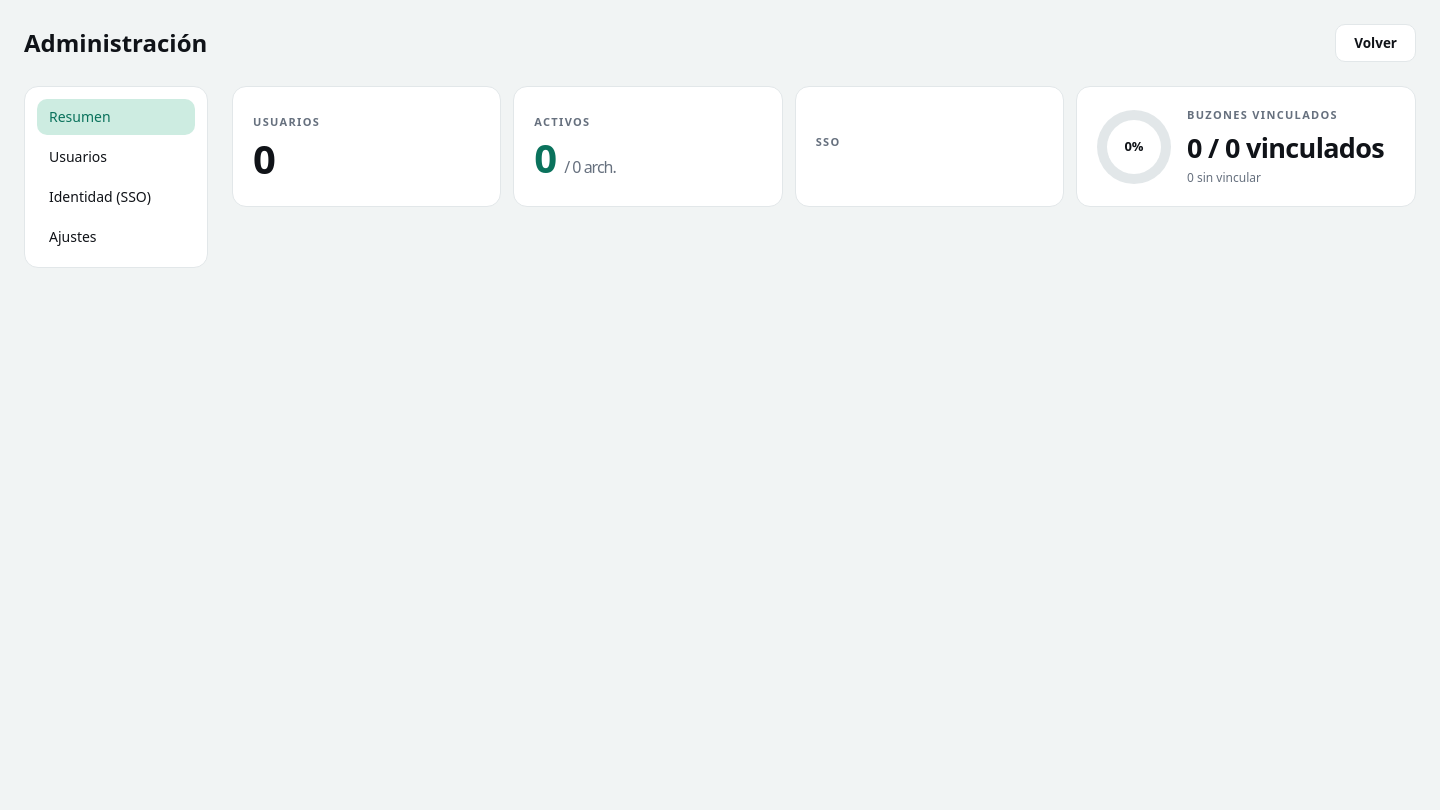
Test: AdminPage SSO config panel › submits the form and PUTs the entered values including clientSecret and providerName, showing saved on success
Click the button "Identidad (SSO)" at (116, 197), box left=37, top=179, right=195, bottom=215
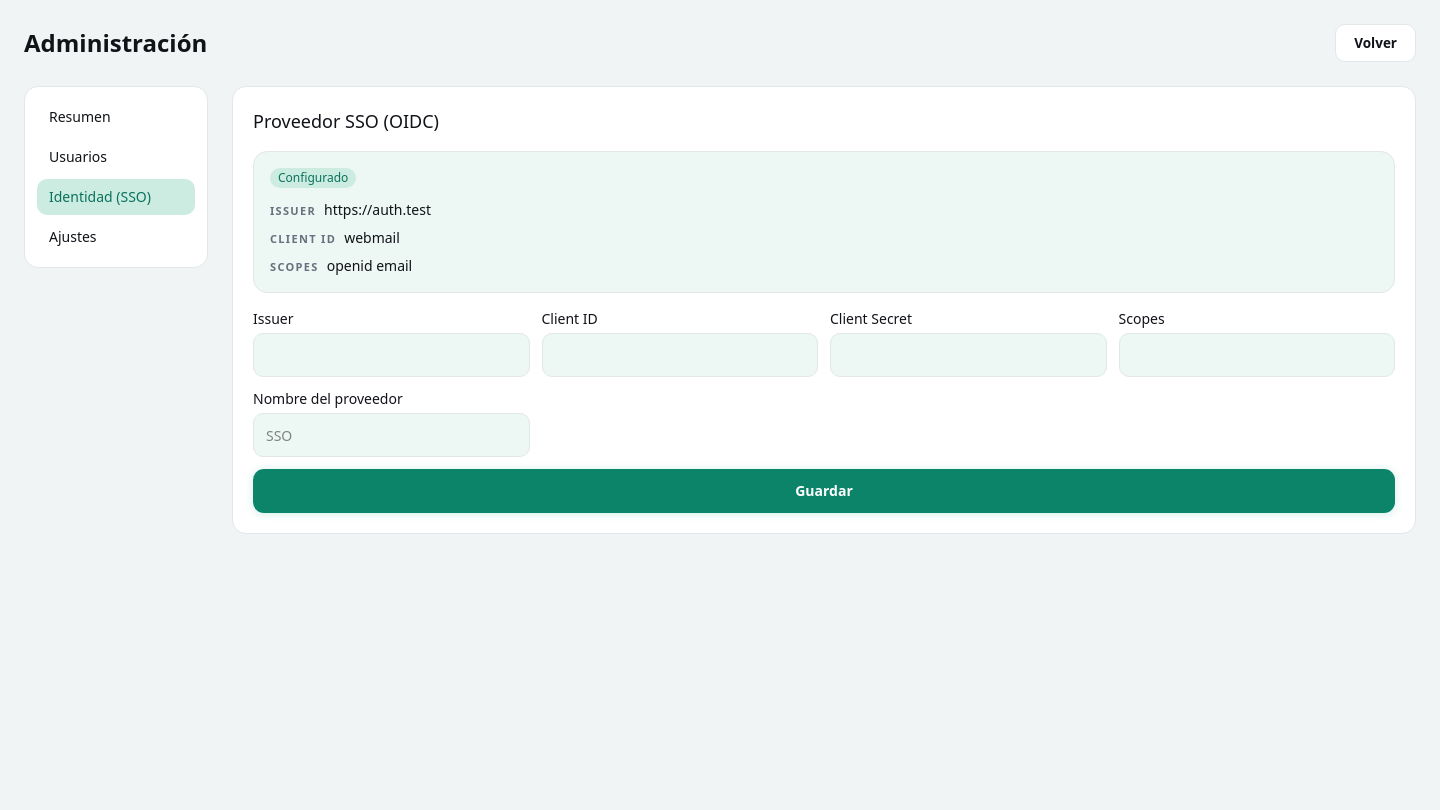
Result: the text "Configurado" is shown at left=270, top=168, right=356, bottom=188
Type "https://new-issuer.test" into the field labelled "Issuer" at (391, 355), box left=253, top=333, right=530, bottom=377
Type "new-client" into the field labelled "Client ID" at (680, 355), box left=542, top=333, right=818, bottom=377
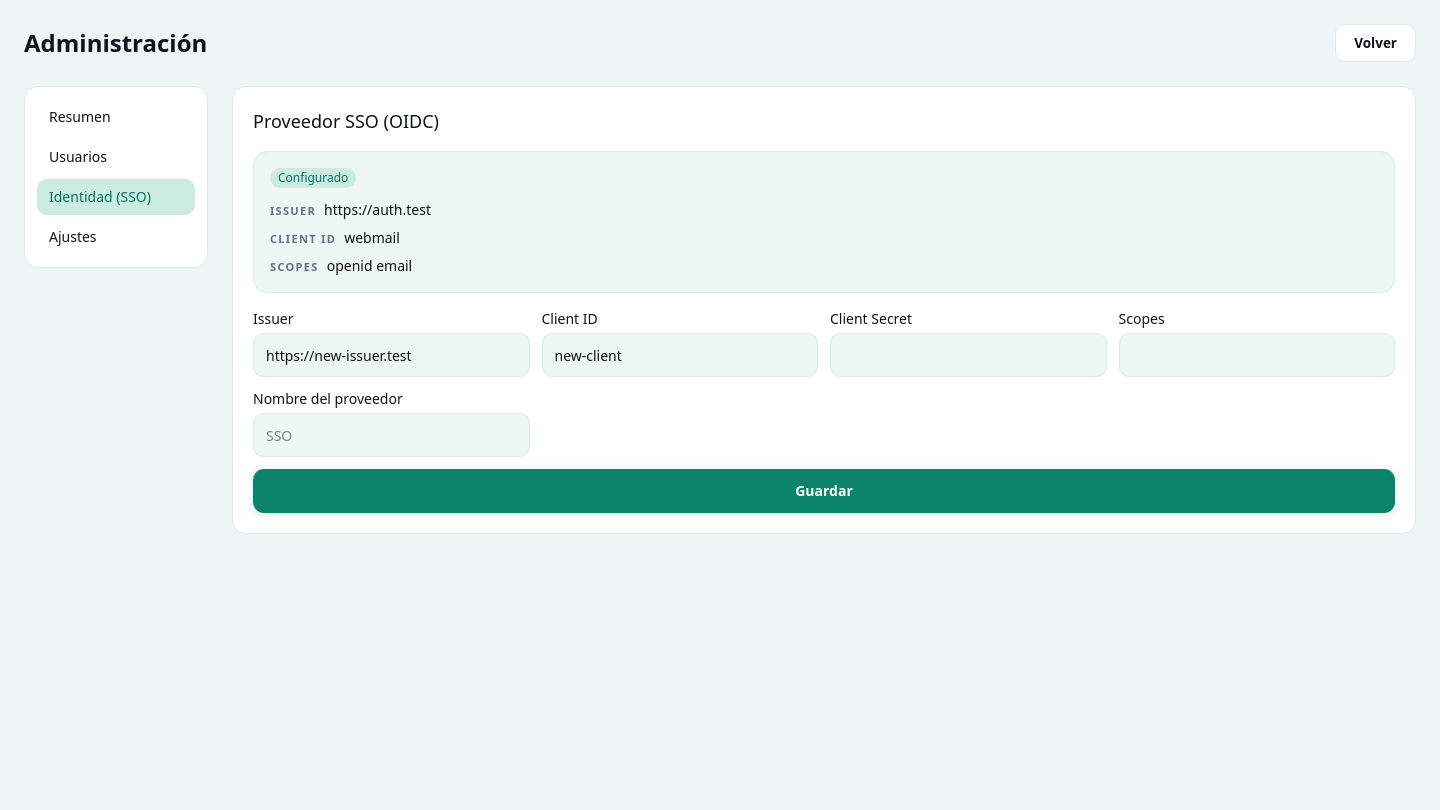
Type "s3cr3t" into the password field labelled "Client Secret" at (968, 355), box left=830, top=333, right=1106, bottom=377
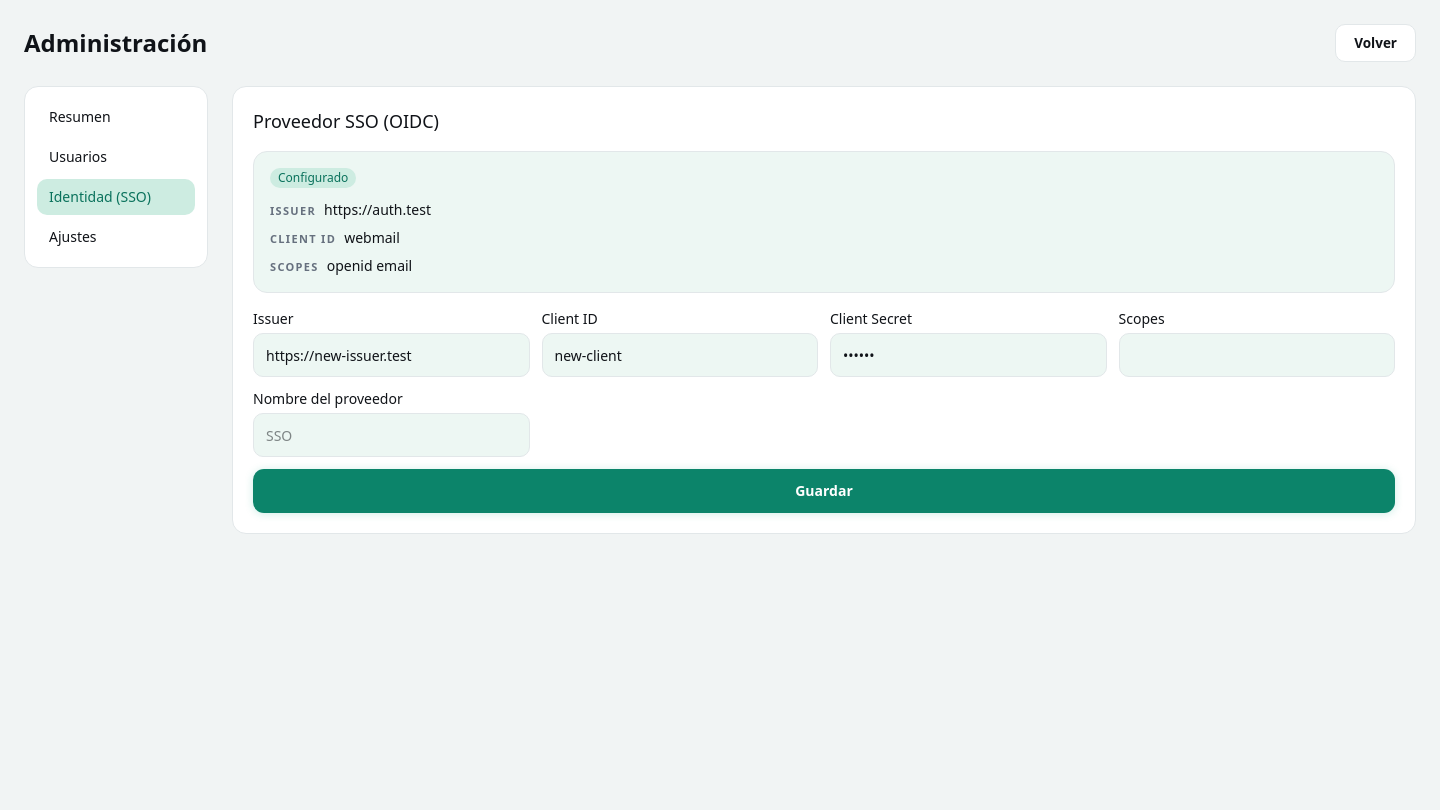
Type "openid profile" into the field labelled "Scopes" at (1257, 355), box left=1118, top=333, right=1395, bottom=377
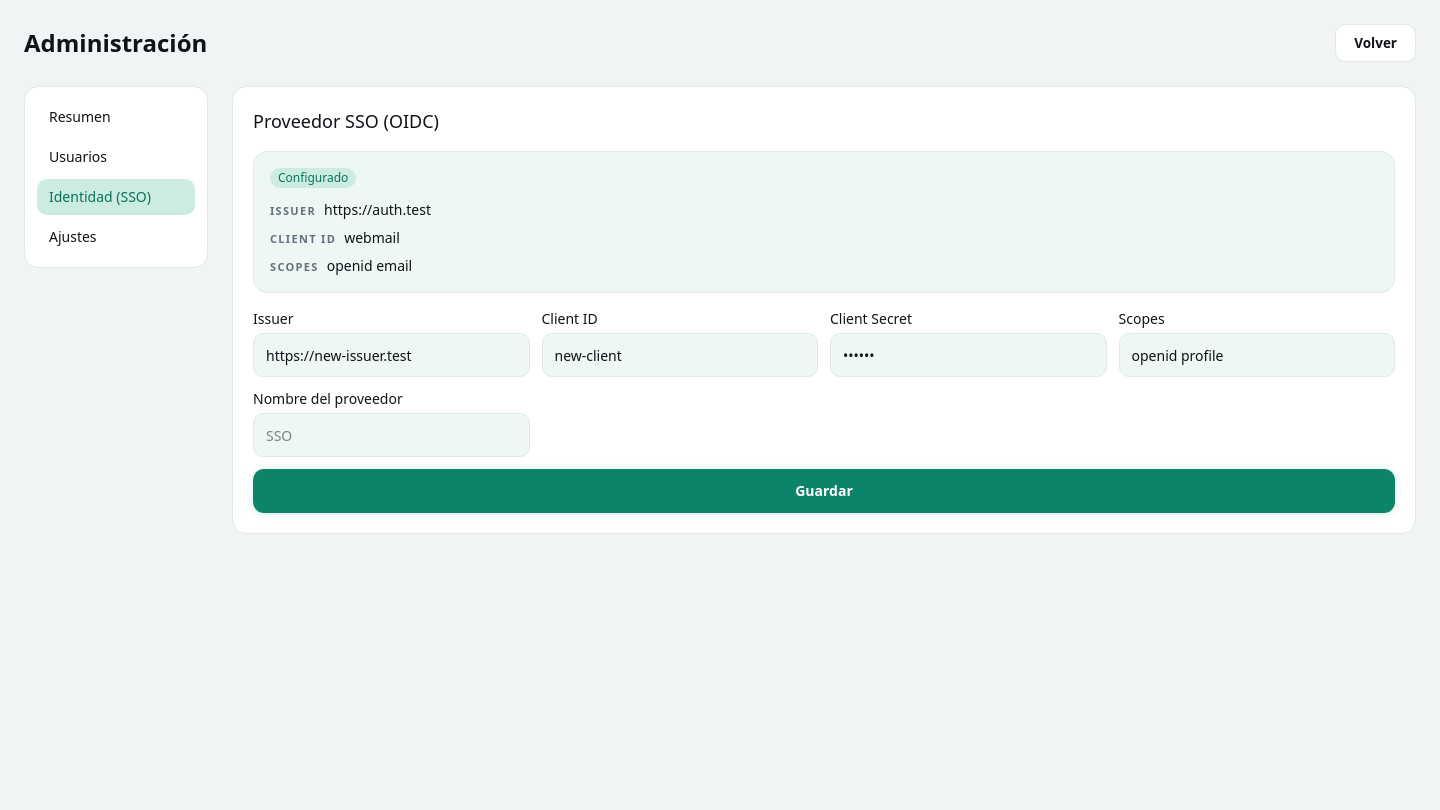
Type "Authentik" into the field labelled "Nombre del proveedor" at (391, 435), box left=253, top=413, right=530, bottom=457
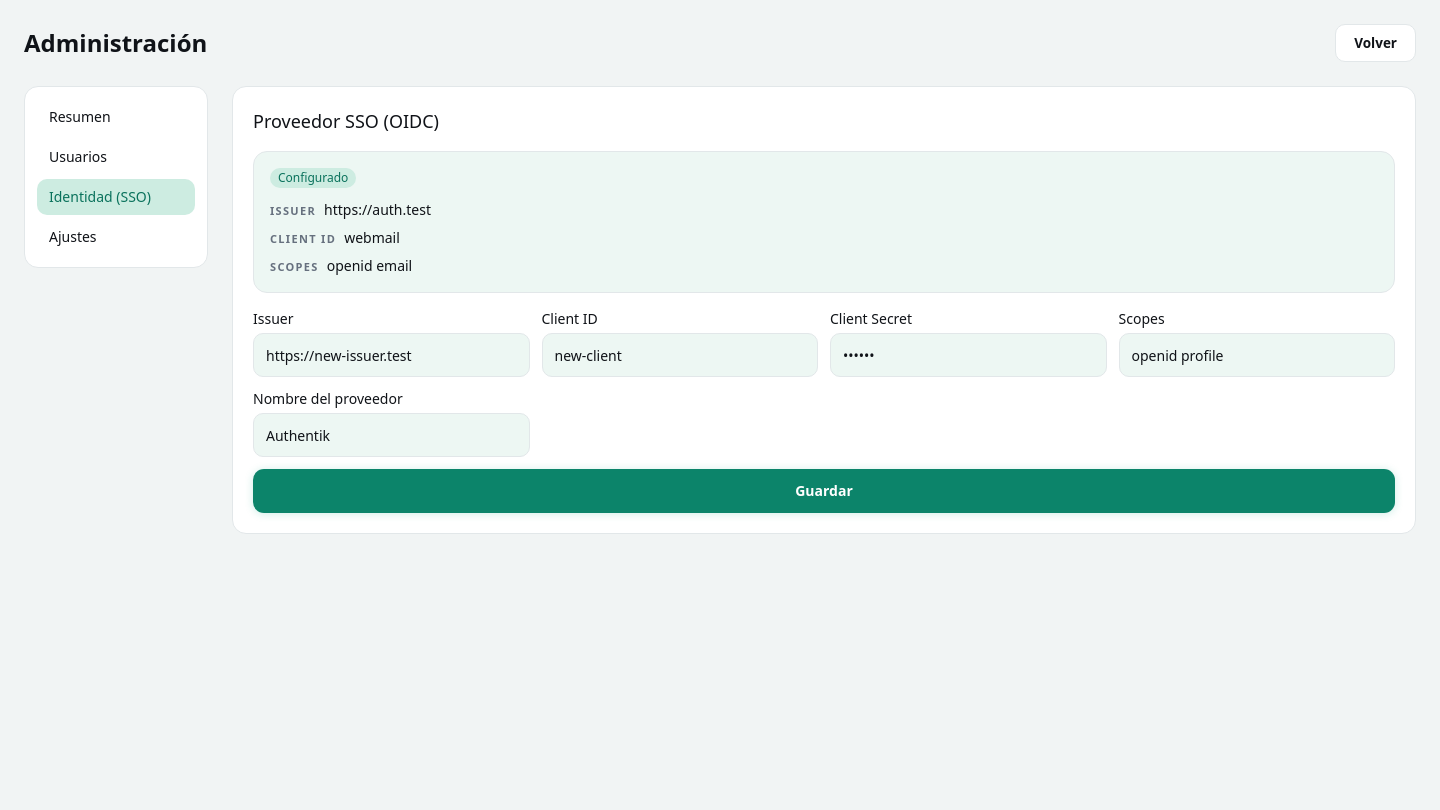
Click the button "Guardar" at (824, 491), box left=253, top=469, right=1395, bottom=513
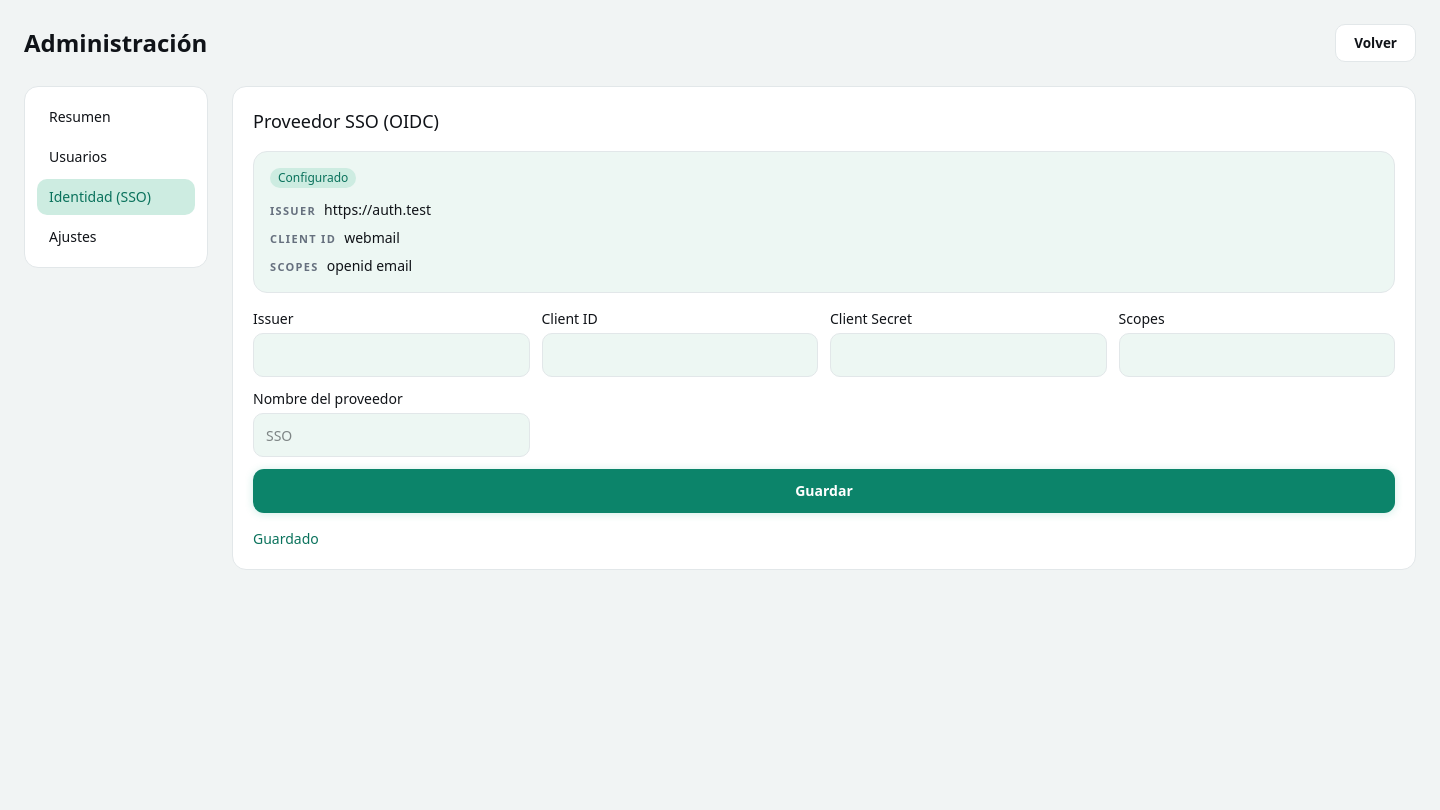
Result: the text "Guardado" is shown at left=253, top=529, right=319, bottom=548
